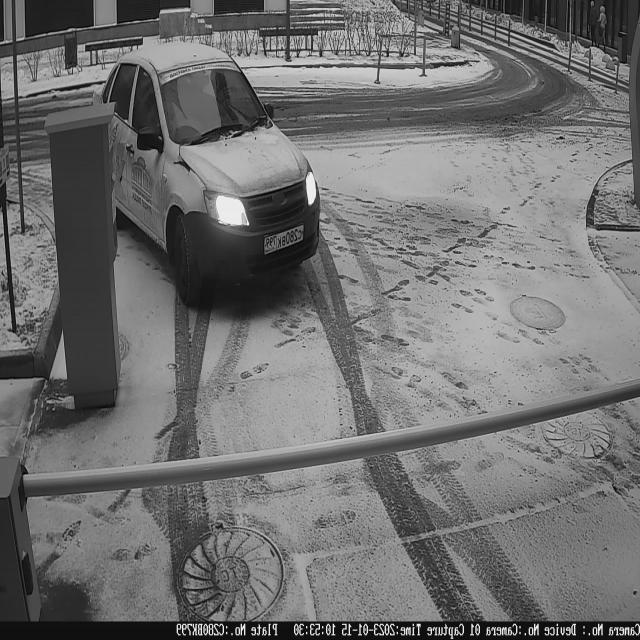car-plate-numbers: (263, 223, 307, 262)
